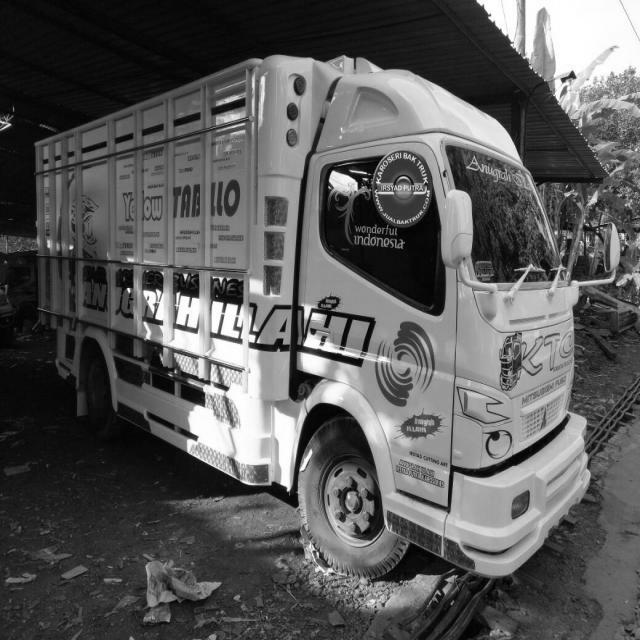truck: (272, 36, 620, 587)
